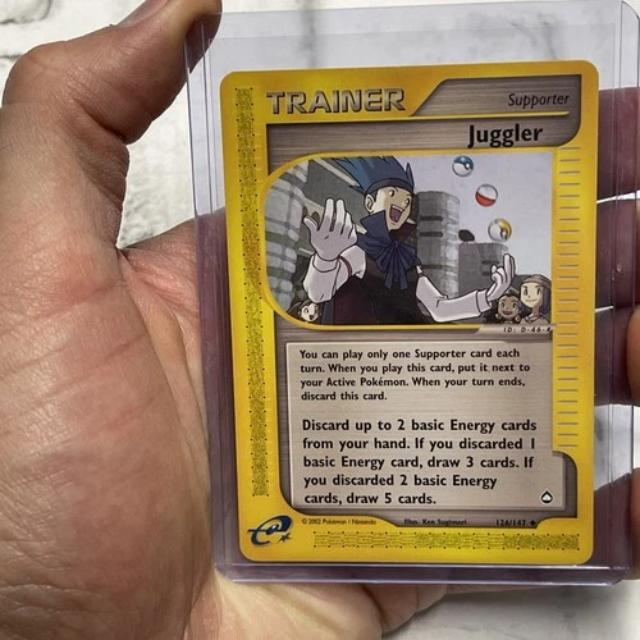Card: (212, 55, 603, 569)
Name: (454, 117, 550, 153)
